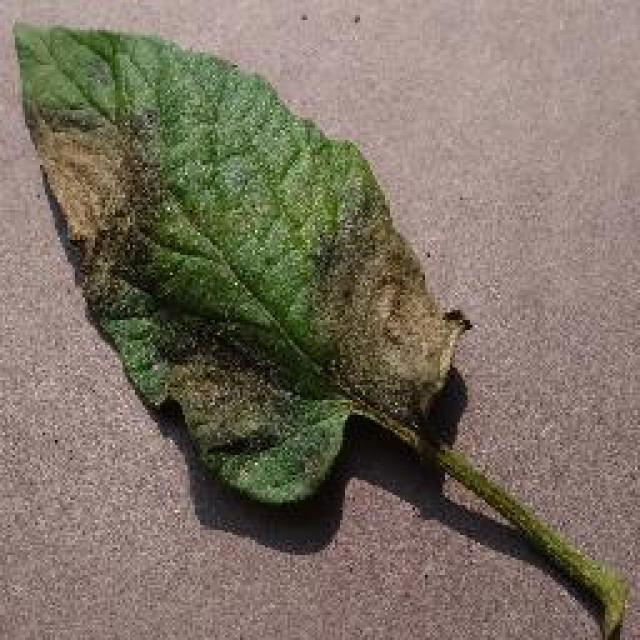Tomato_Late_Blight: (306, 185, 476, 428), (23, 101, 167, 304), (165, 323, 278, 445)
